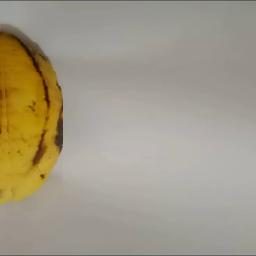Banana Semifresh: (0, 20, 63, 212)
